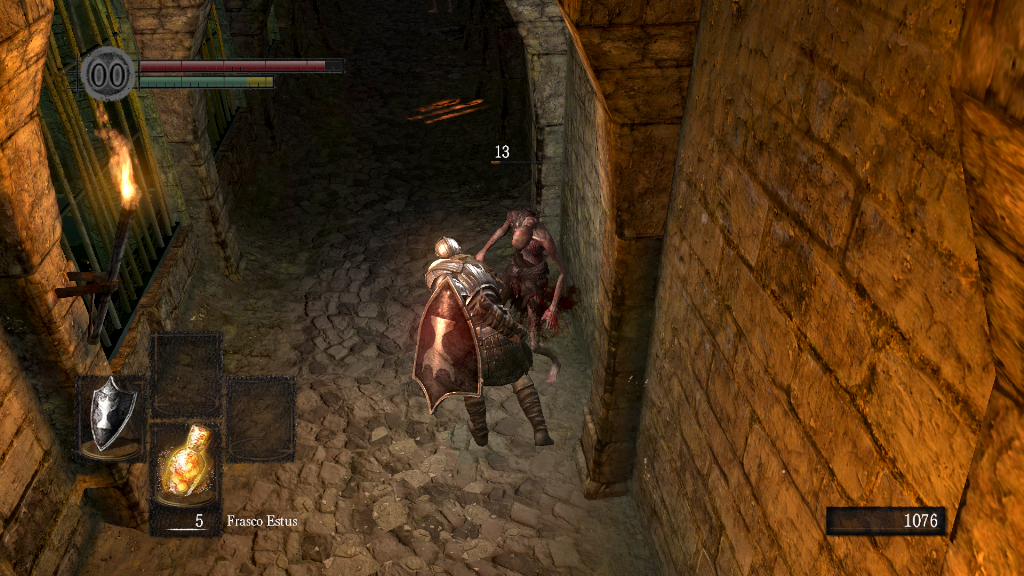health: (138, 58, 343, 71)
hollow: (474, 208, 564, 385)
humanity: (80, 45, 136, 102)
player: (412, 235, 557, 448)
souls: (825, 506, 945, 536)
stamina: (138, 74, 274, 88)
